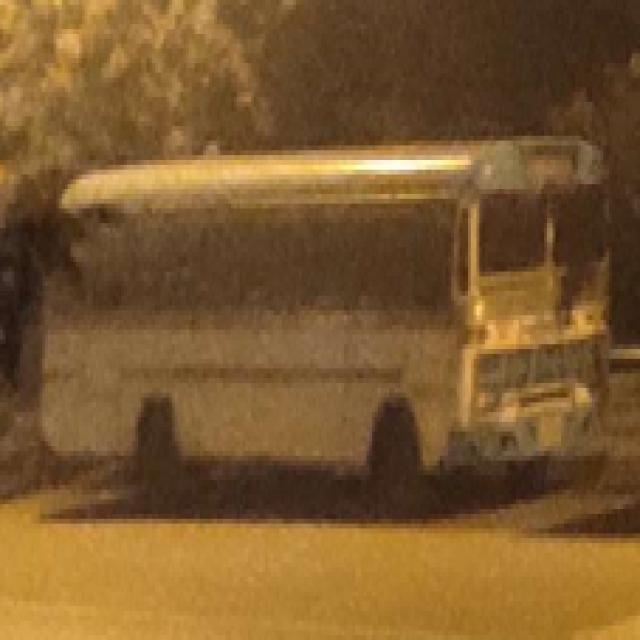bus: (48, 137, 604, 505)
